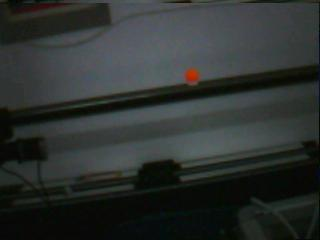oball: (185, 66, 199, 83)
